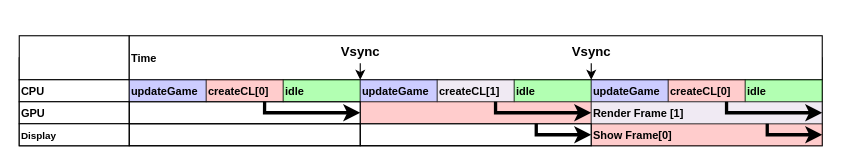
Image size: 851x165. Some labels were removed from this diagram. Each missing label, with the centre of its shape:
"Device" goes at (x=73, y=57).
"Render Frame [0]" goes at (x=475, y=112).
